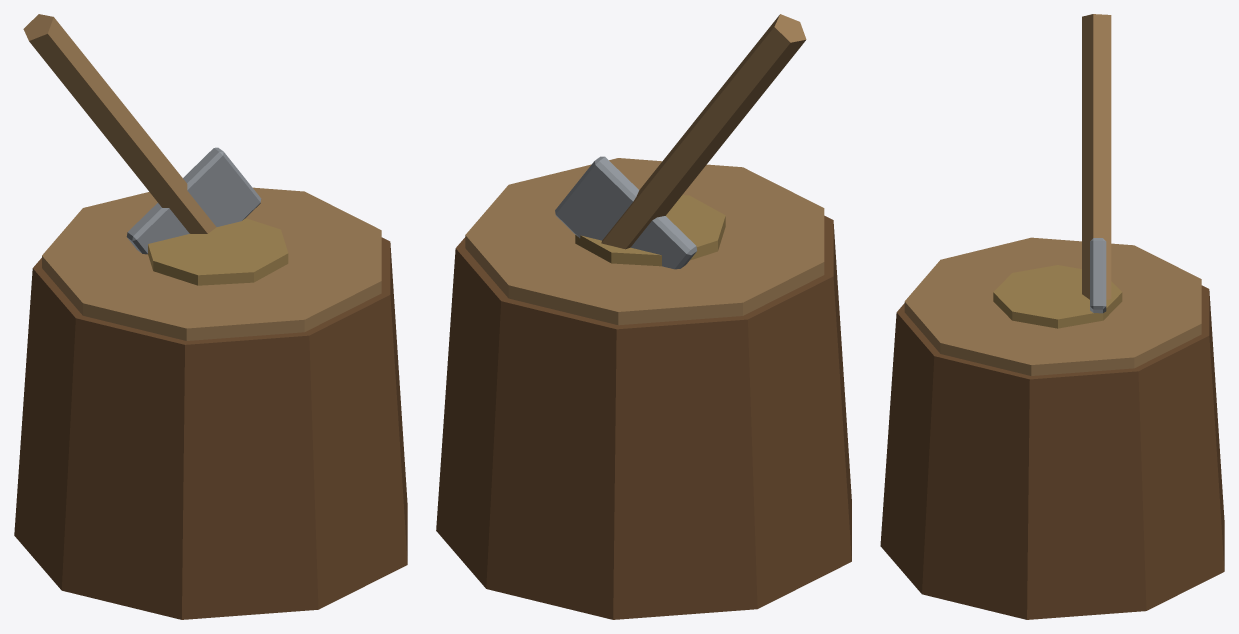
The model's file is stump.fbx.
The picture shows the model from 3 angles, left to right: view 1: azimuth 30°, elevation 25°; view 2: azimuth 150°, elevation 25°; view 3: azimuth 270°, elevation 25°; orthographic projection. The views are drawn at different scales.
Visible parts, largest first — view 1: Prop; view 2: Prop; view 3: Prop.
Part boxes in pixels (x1=…): Prop: x1=14, y1=14, x2=407, y2=619; Prop: x1=436, y1=14, x2=851, y2=619; Prop: x1=880, y1=14, x2=1224, y2=619.
Size of the model in its own units: 0.4333 by 0.4267 by 0.6447.
